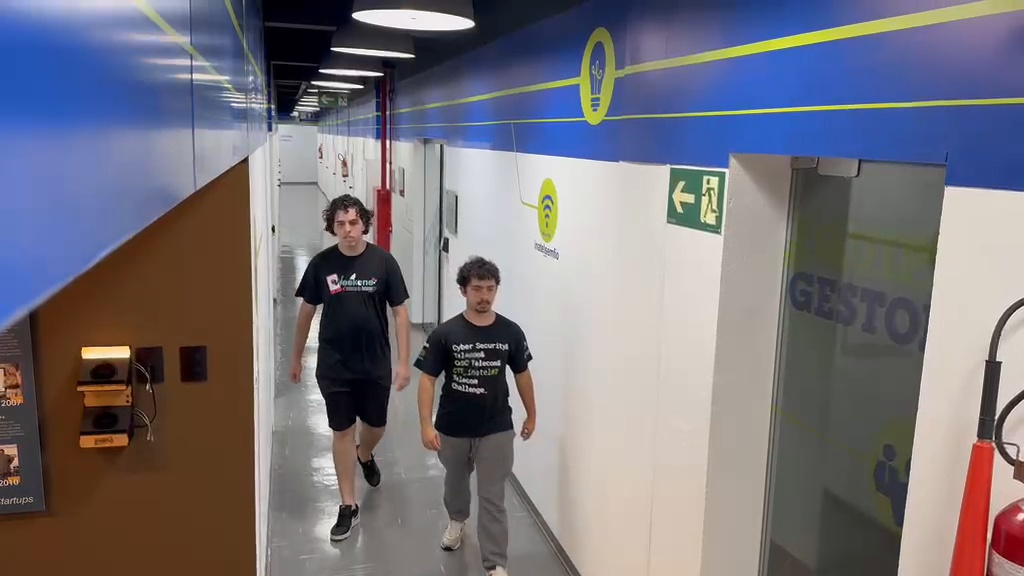person: (289, 192, 411, 541), (410, 255, 537, 571)
